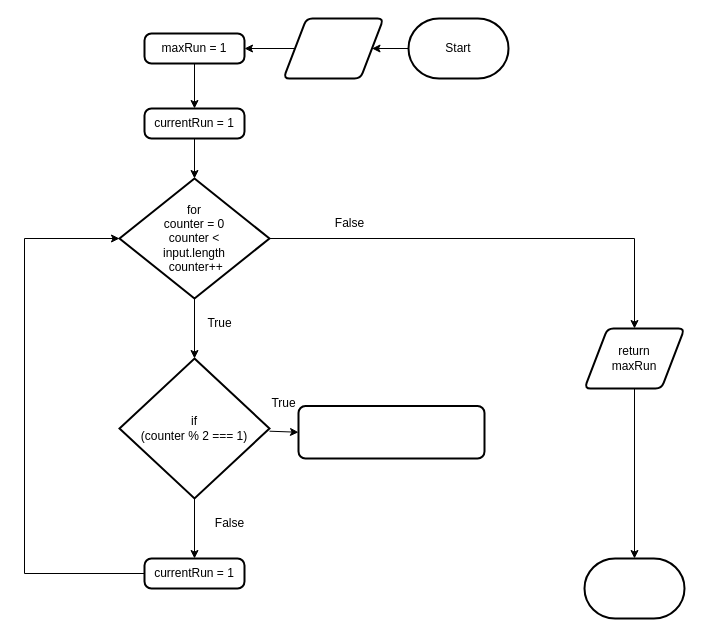
Some shapes in this 703 by 636 pixel diagram are drawn without their labels. The shapes that lost their labels are listed below. From the top down, each one's box as (x1, y1, x2, y2) in pixels, then its label:
(282, 17, 384, 79): Get userString
(297, 404, 485, 459): string.fromCharCode(charCode - 32)
(583, 557, 685, 619): Stop
